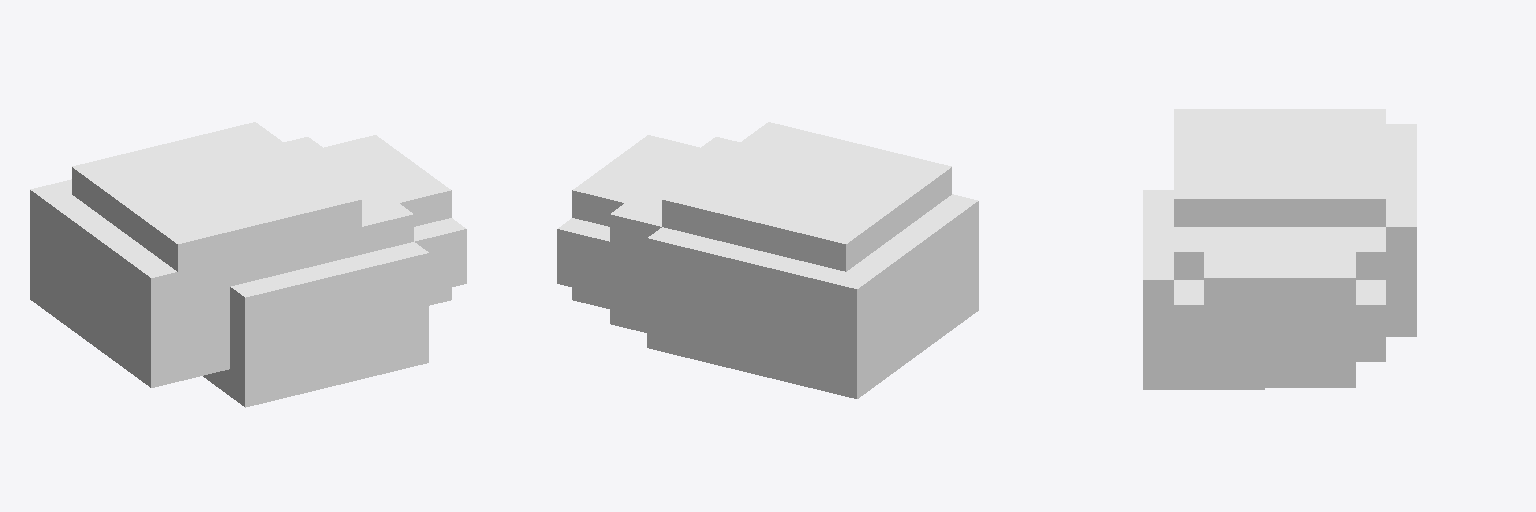
Rendered from right_arm.obj.
The picture shows the model from 3 angles: view 1: azimuth 30°, elevation 25°; view 2: azimuth 150°, elevation 25°; view 3: azimuth 270°, elevation 25°; orthographic projection.
Bounding box in the file's own units: 1.5 × 0.75 × 1.12.